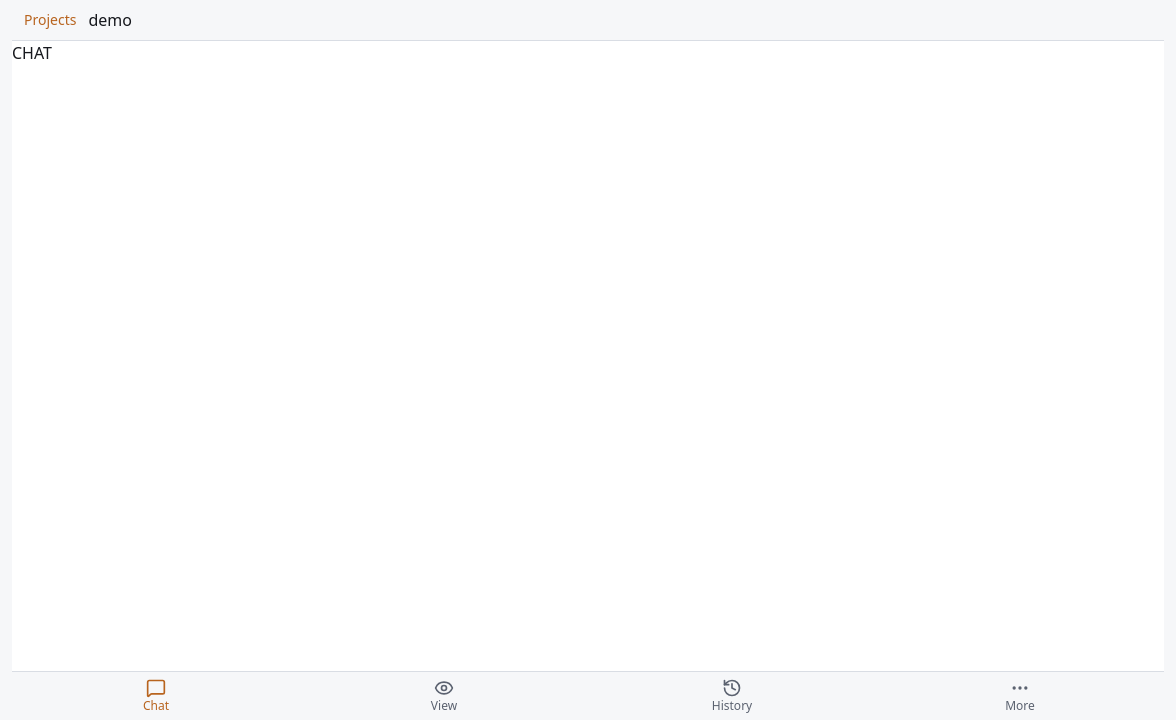
Scenario: ProjectLayout › iPhone: bottom tabs Chat/View/History/More; More lists registered panels
Check: the navigation bar named "Sections" reads "Chat View History More", box 12,671 -> 1164,719
Check: the text "CHAT" is shown, box 12,42 -> 52,64
Click the tab "View".
click(444, 696)  # box 300,672 -> 588,719
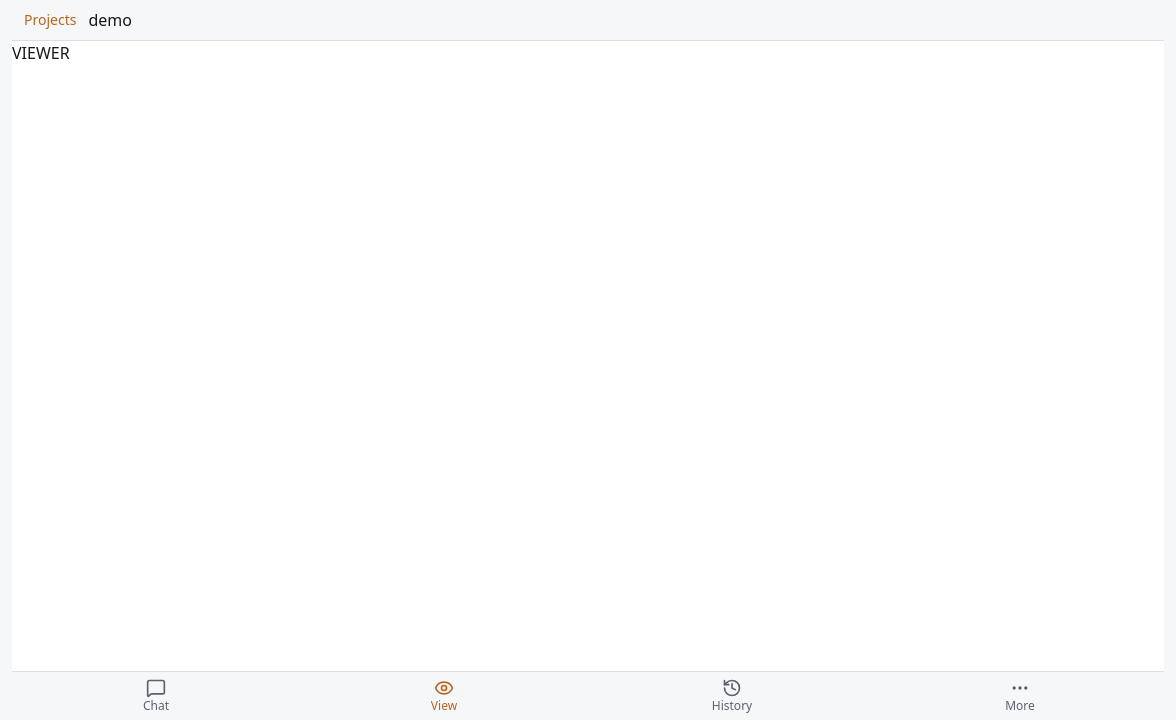
Check: the text "VIEWER" is shown, box 12,42 -> 70,64
Click the tab "History".
click(732, 696)  # box 588,672 -> 876,719
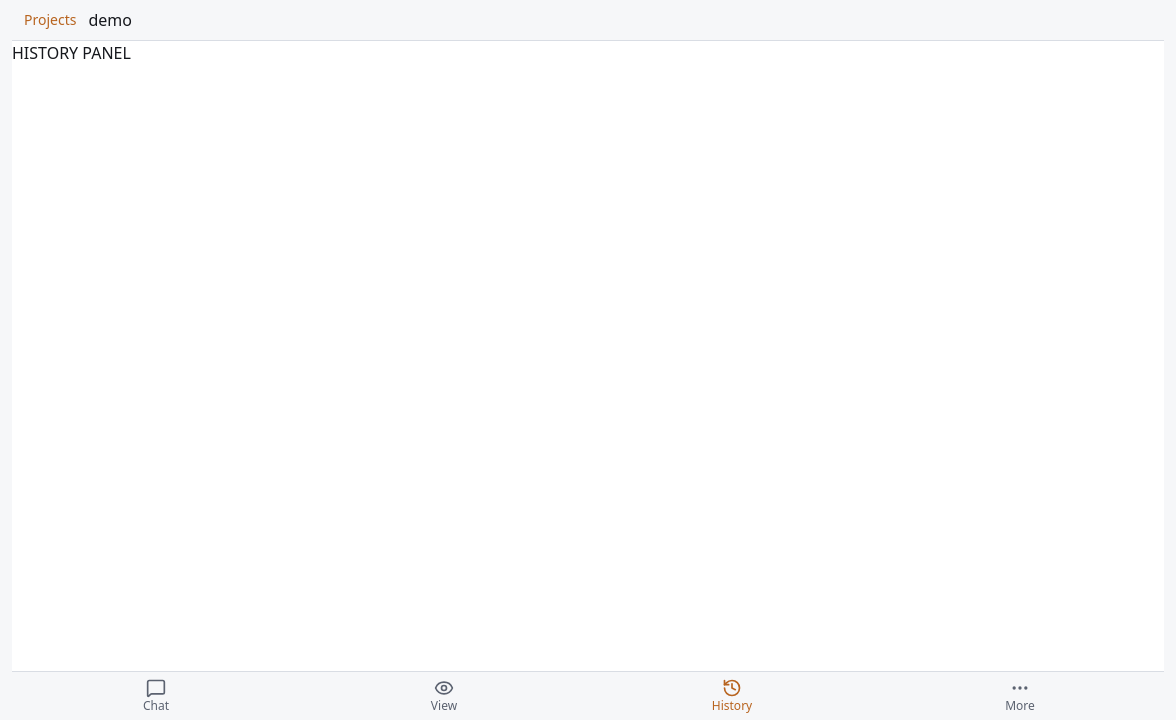
Check: the text "HISTORY PANEL" is shown, box 12,42 -> 131,64
Click the tab "More".
click(1020, 696)  # box 876,672 -> 1164,719
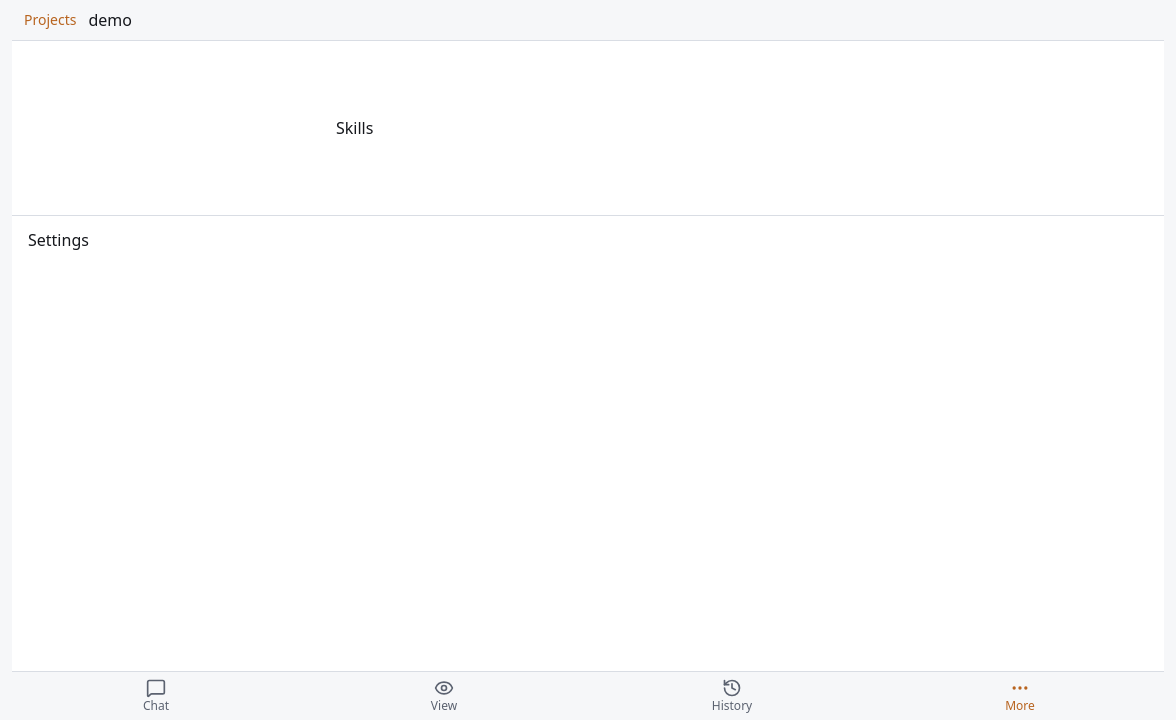
Click the button "Skills".
click(588, 128)  # box 12,41 -> 1164,215
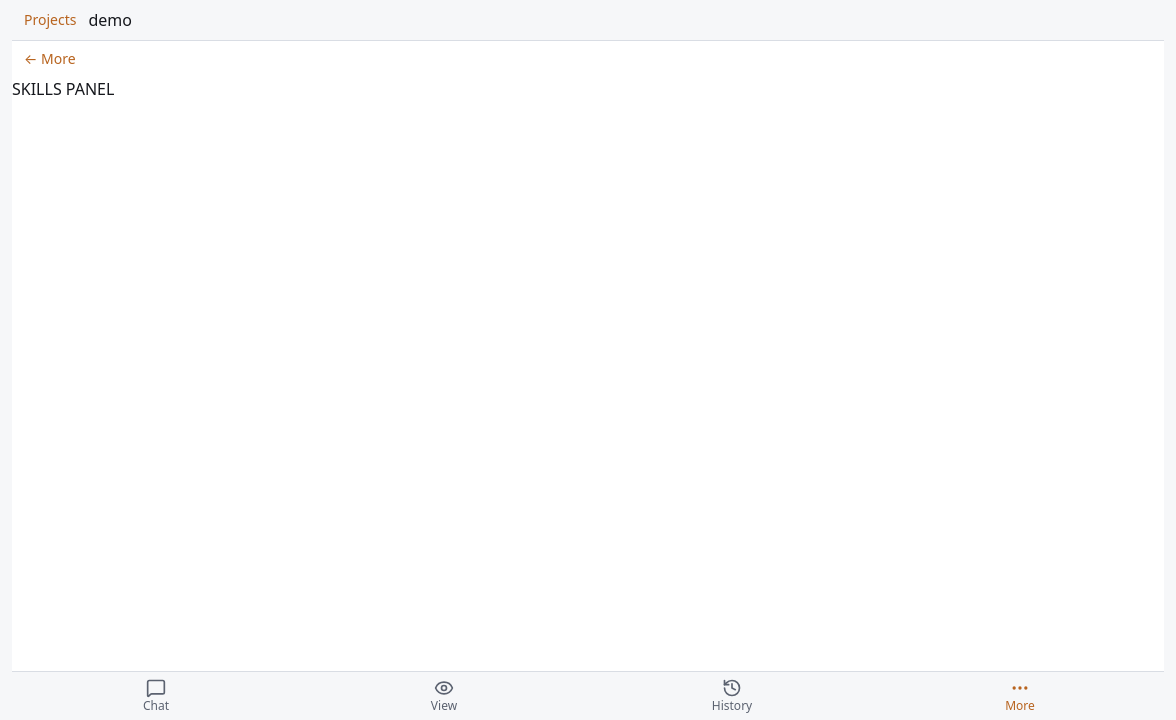
Check: the text "SKILLS PANEL" is shown, box 12,78 -> 114,100
